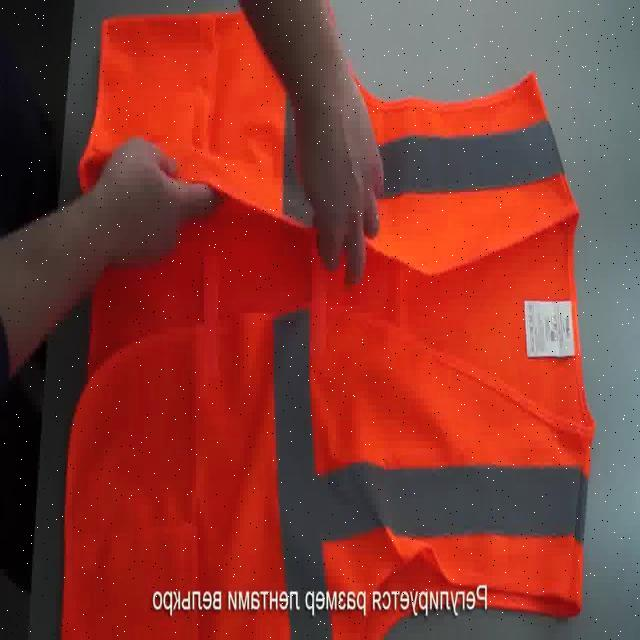Vest: (91, 57, 586, 637)
